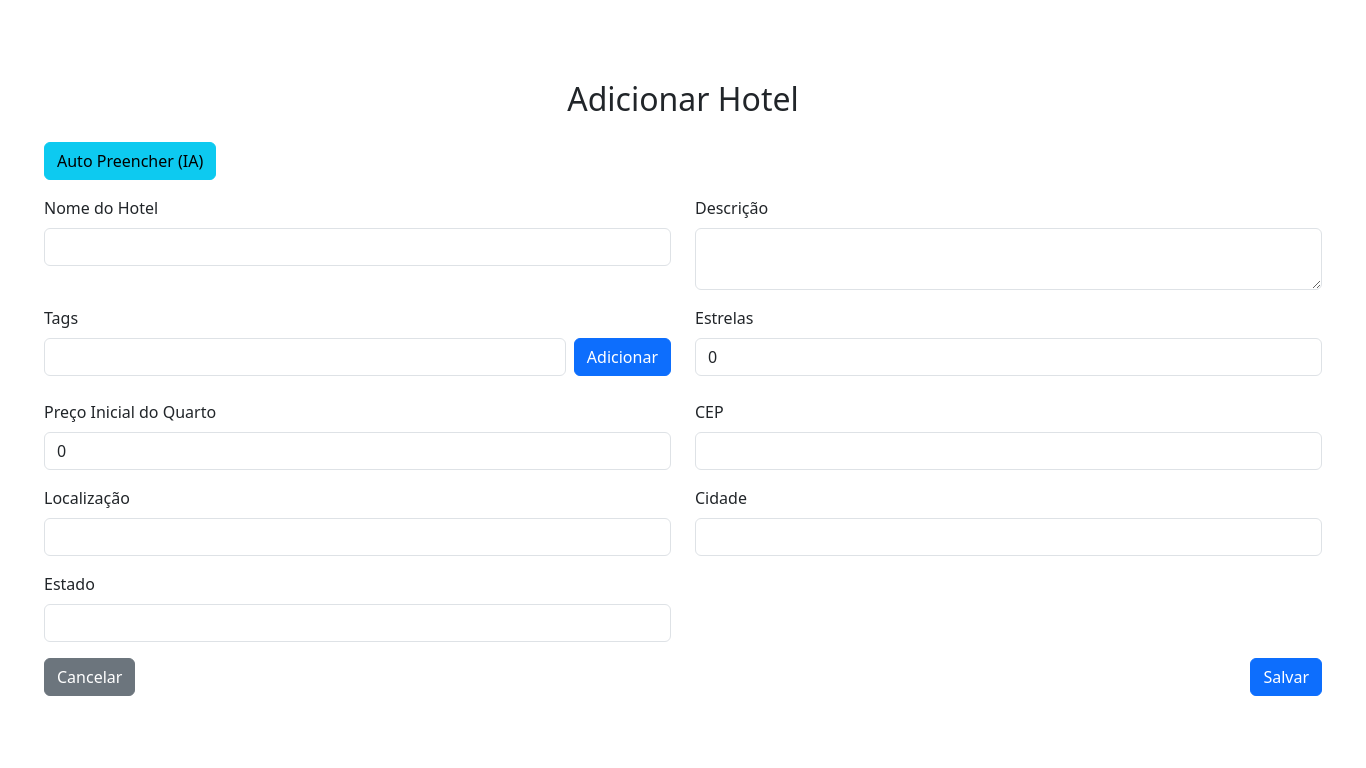
Test: HotelForm component › handles errors during form submission
Type "New Hotel" into the field labelled "Nome do Hotel" at point(358, 247), box [44, 228, 671, 266]
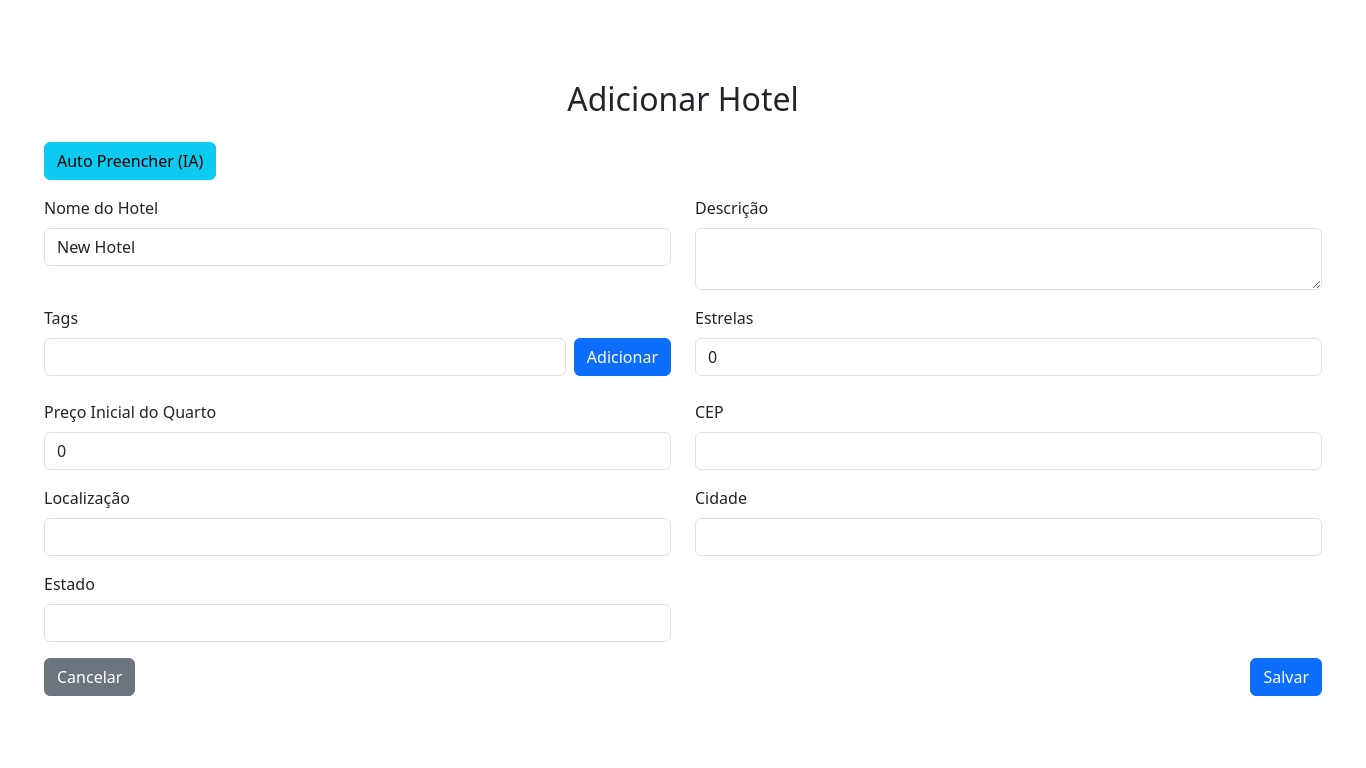
Type "New description" into the text box labelled "Descrição" at point(1008, 259), box [695, 228, 1322, 290]
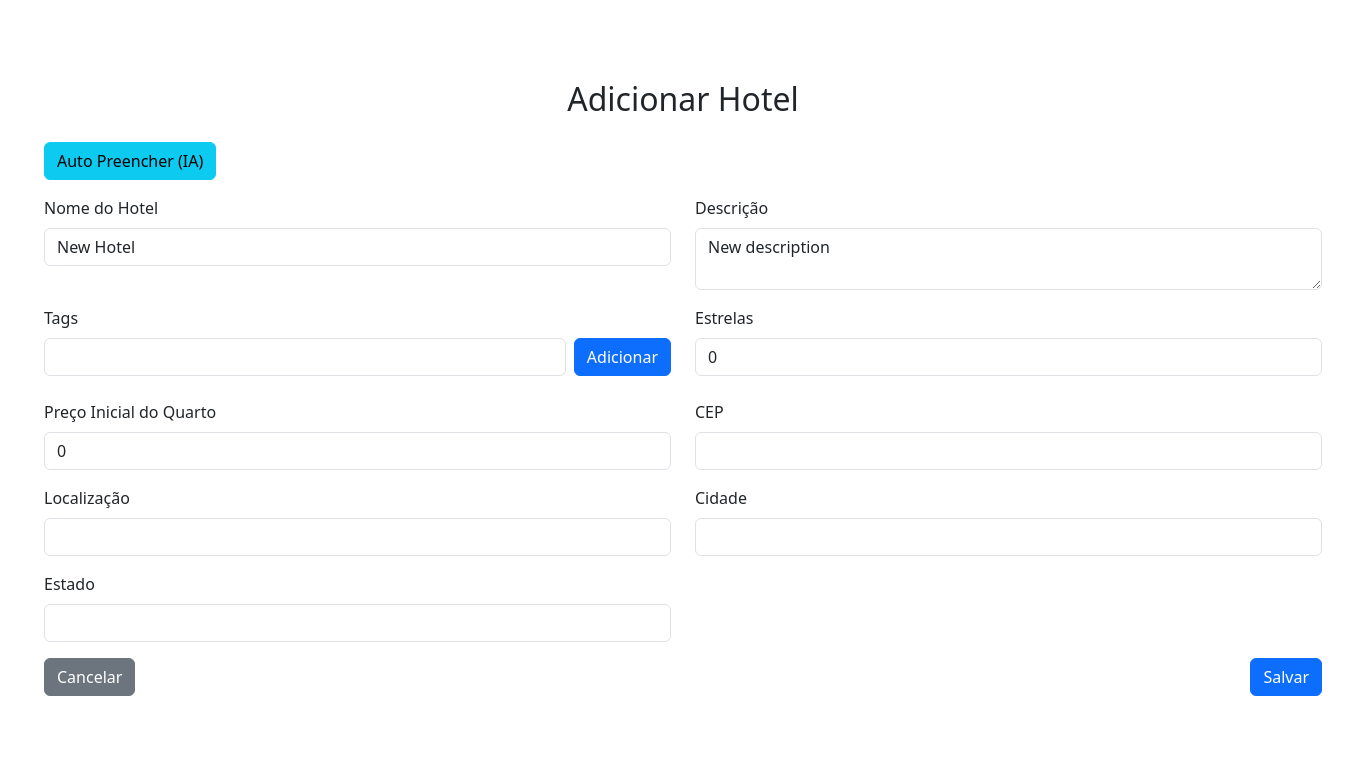
Submit the form from the button "Salvar", box [1250, 658, 1322, 696]
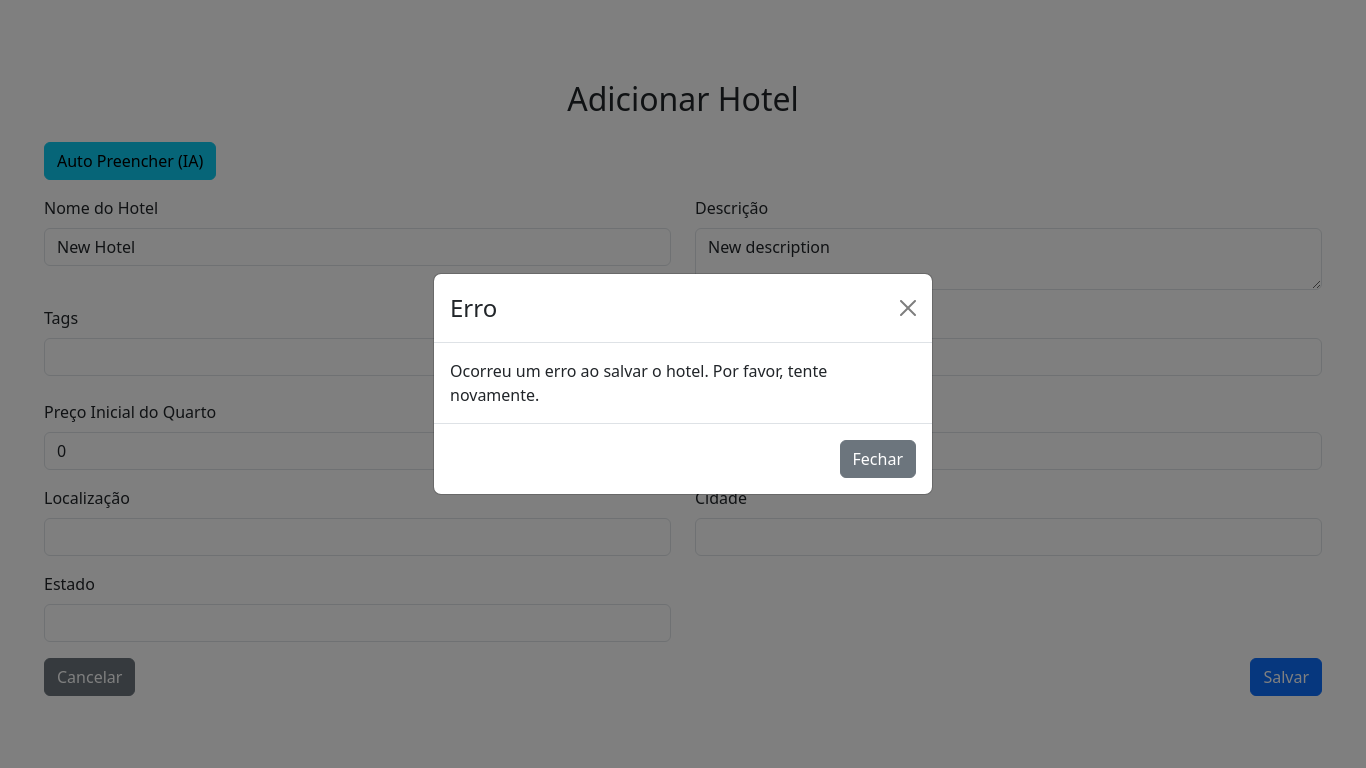
Now the text "Ocorreu um erro ao salvar o hotel. Por favor, tente novamente." is shown, box [450, 360, 827, 406]
